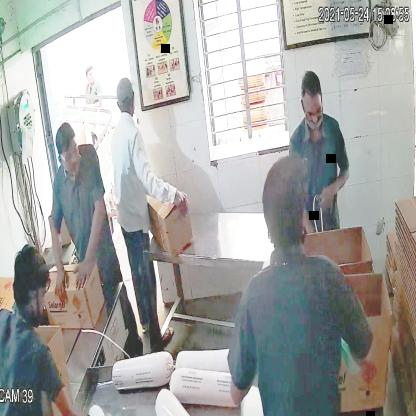goggles: (57, 145, 80, 164)
